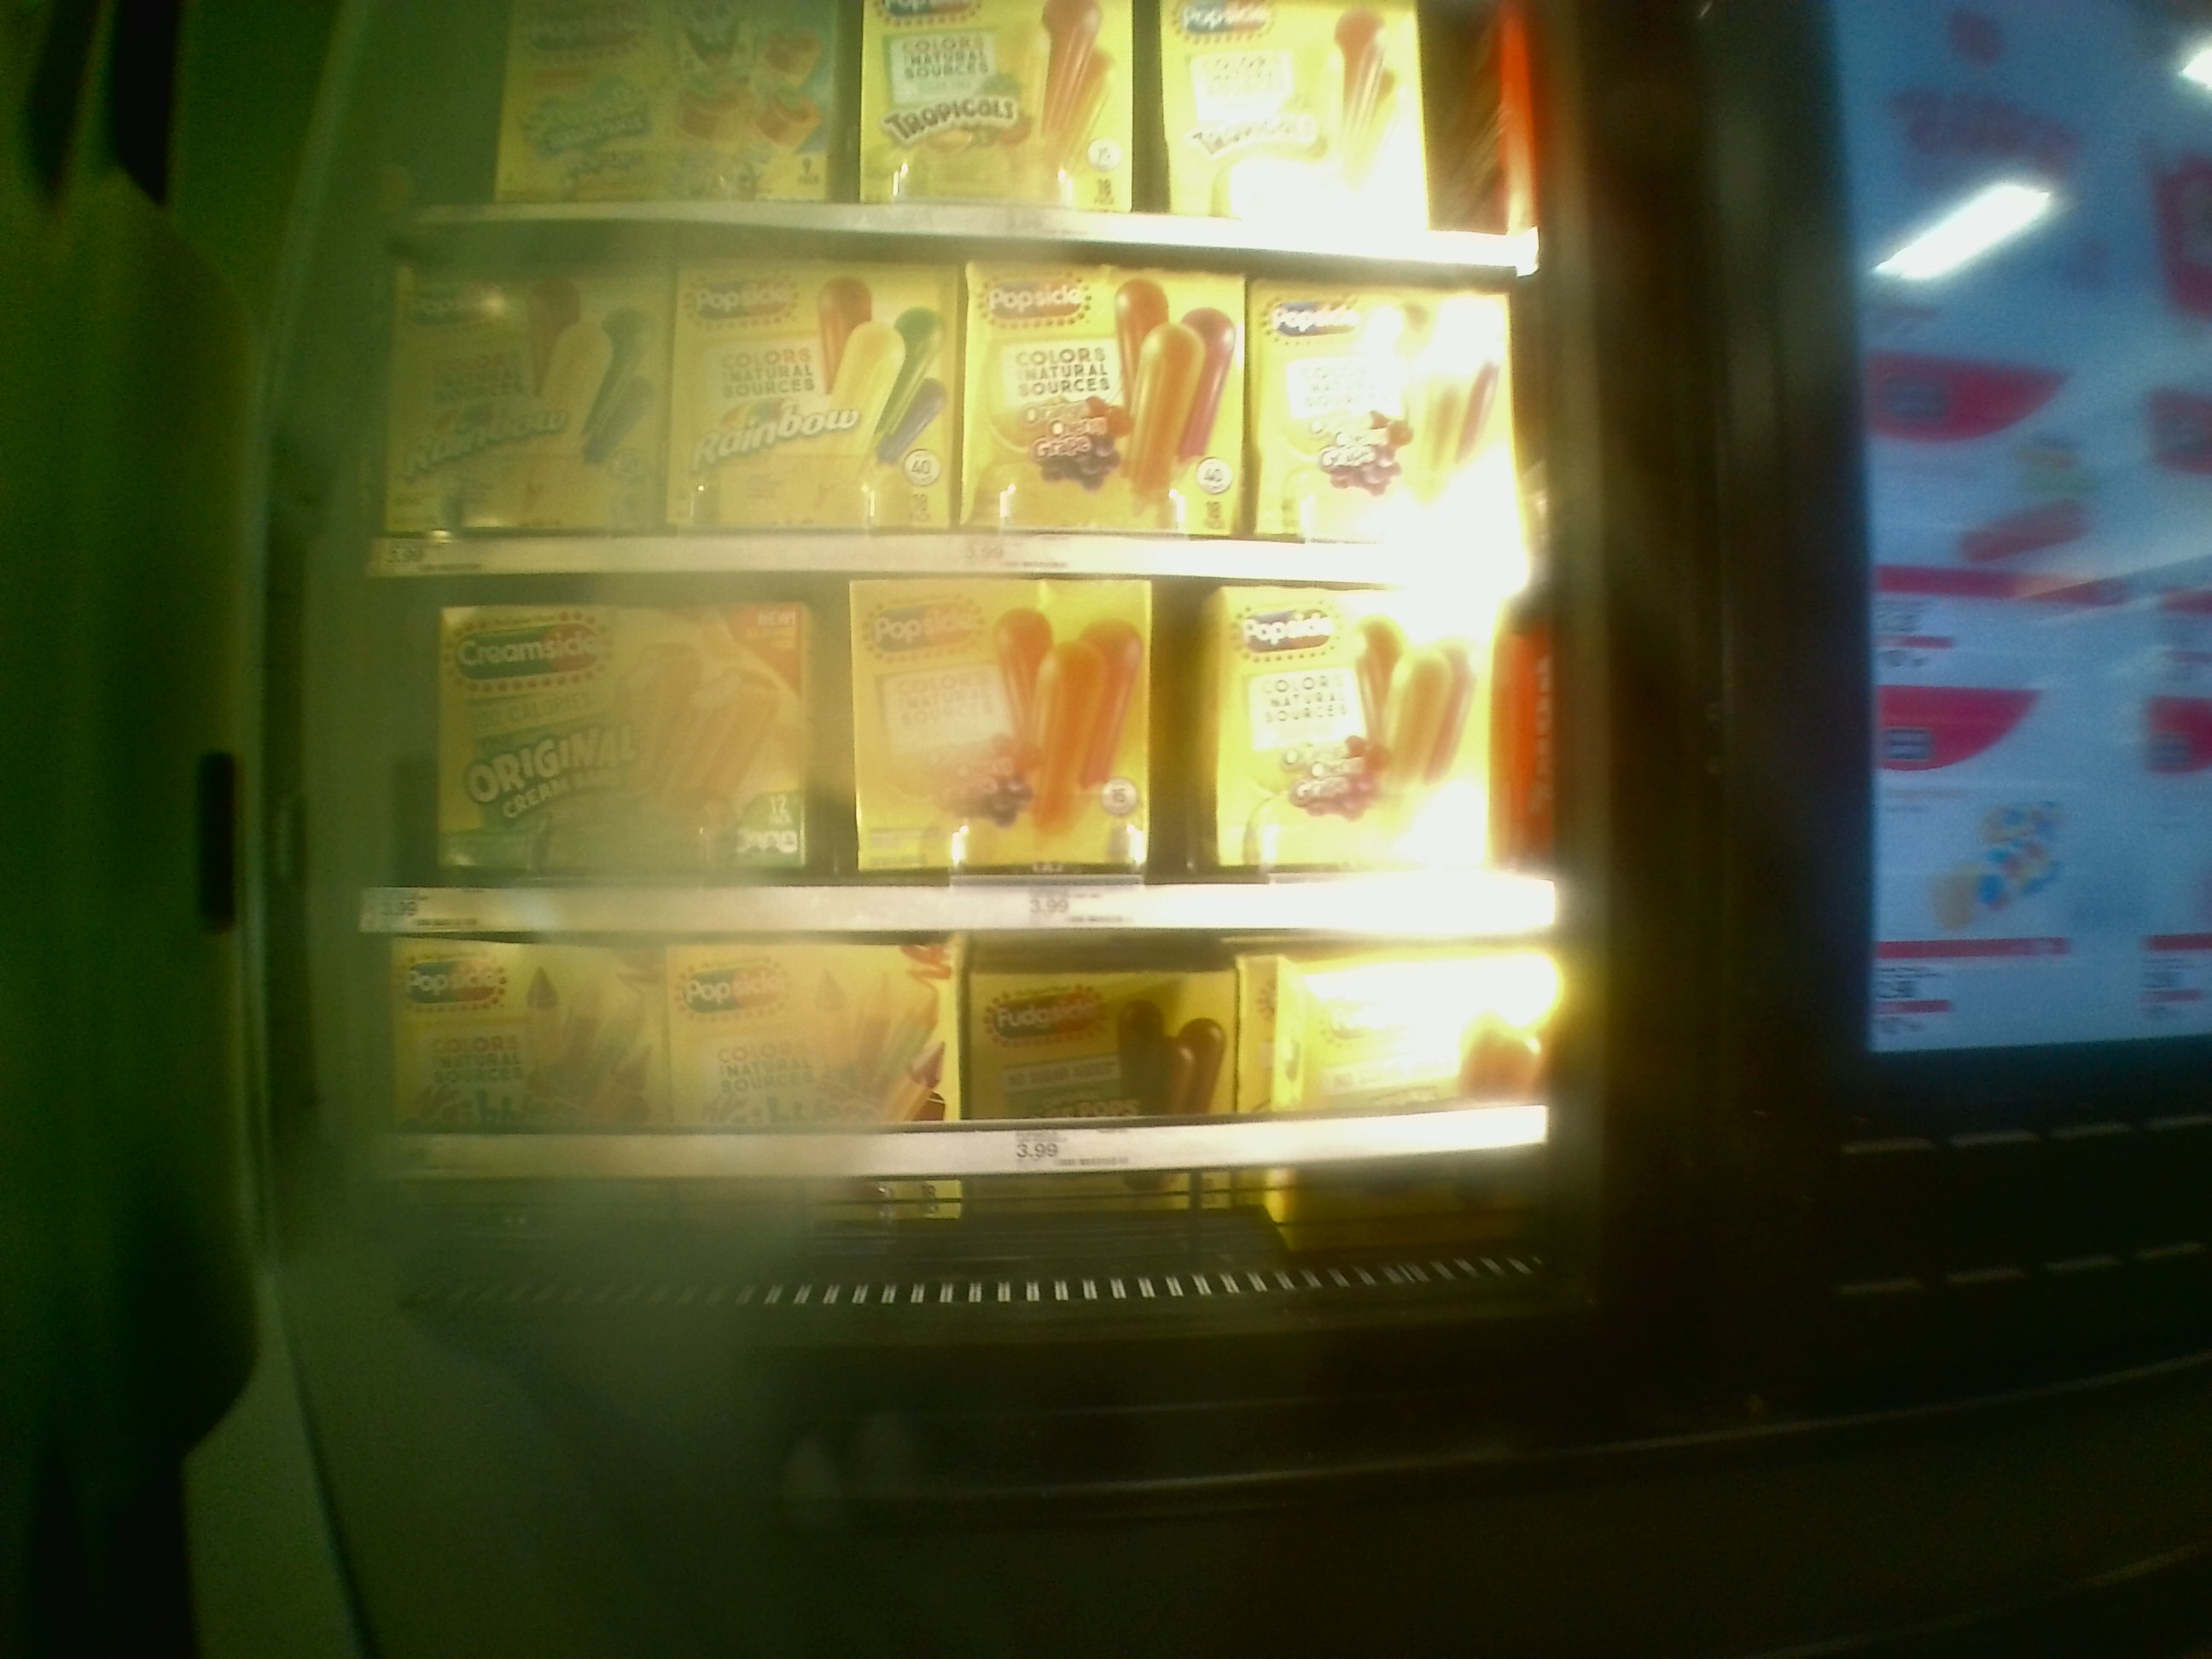frozen-food-shelf: (350, 938, 1559, 1183)
